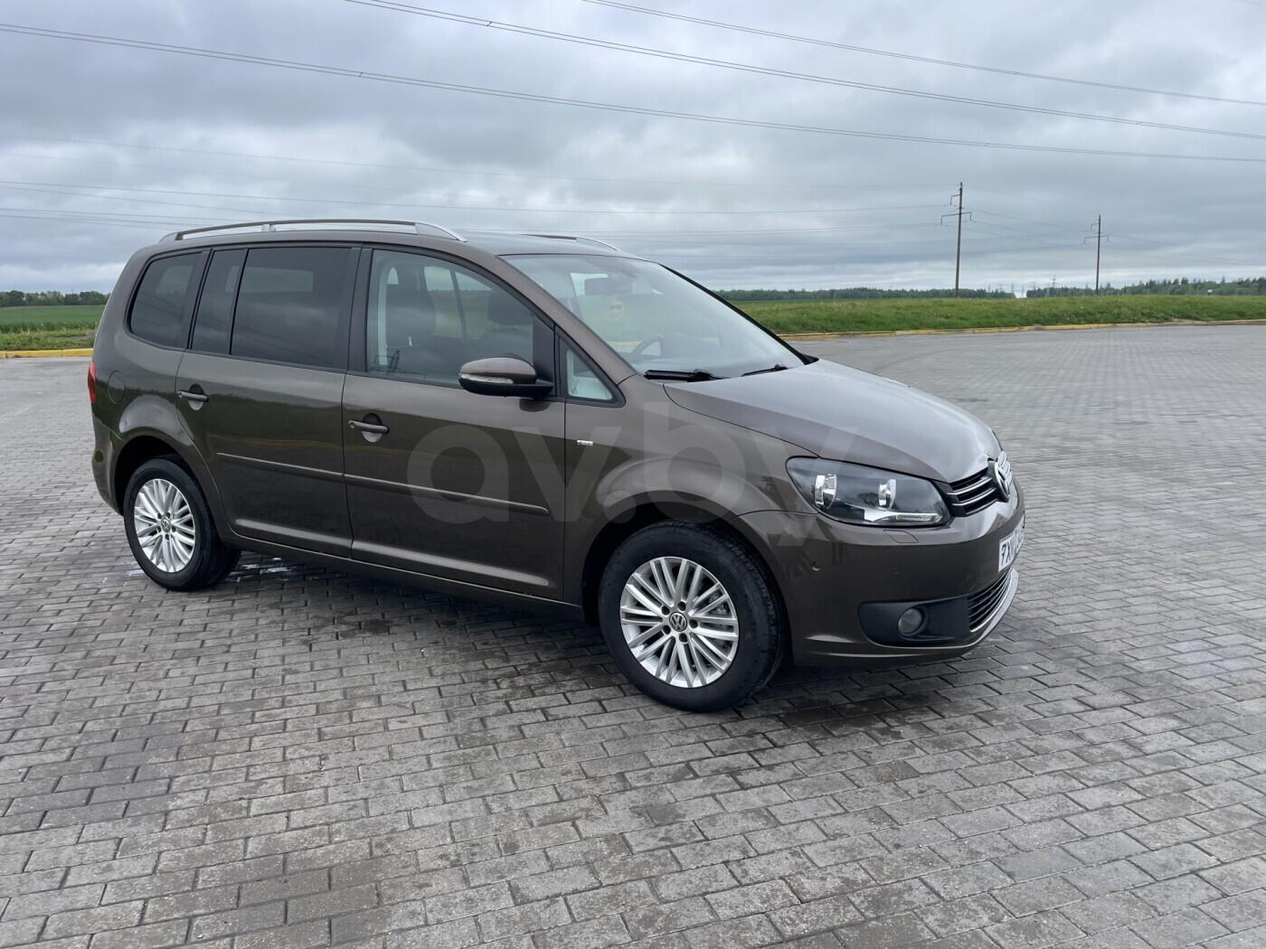Touran_2010-2015: (80, 214, 1036, 719)
